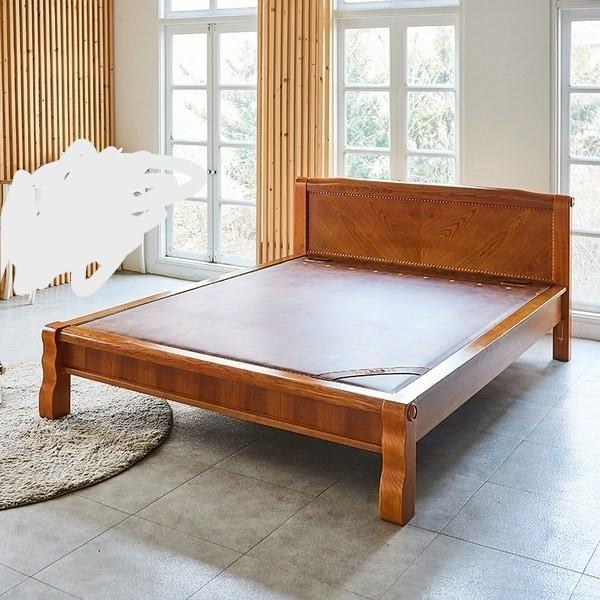Bed-Mattress: (31, 177, 577, 517)
